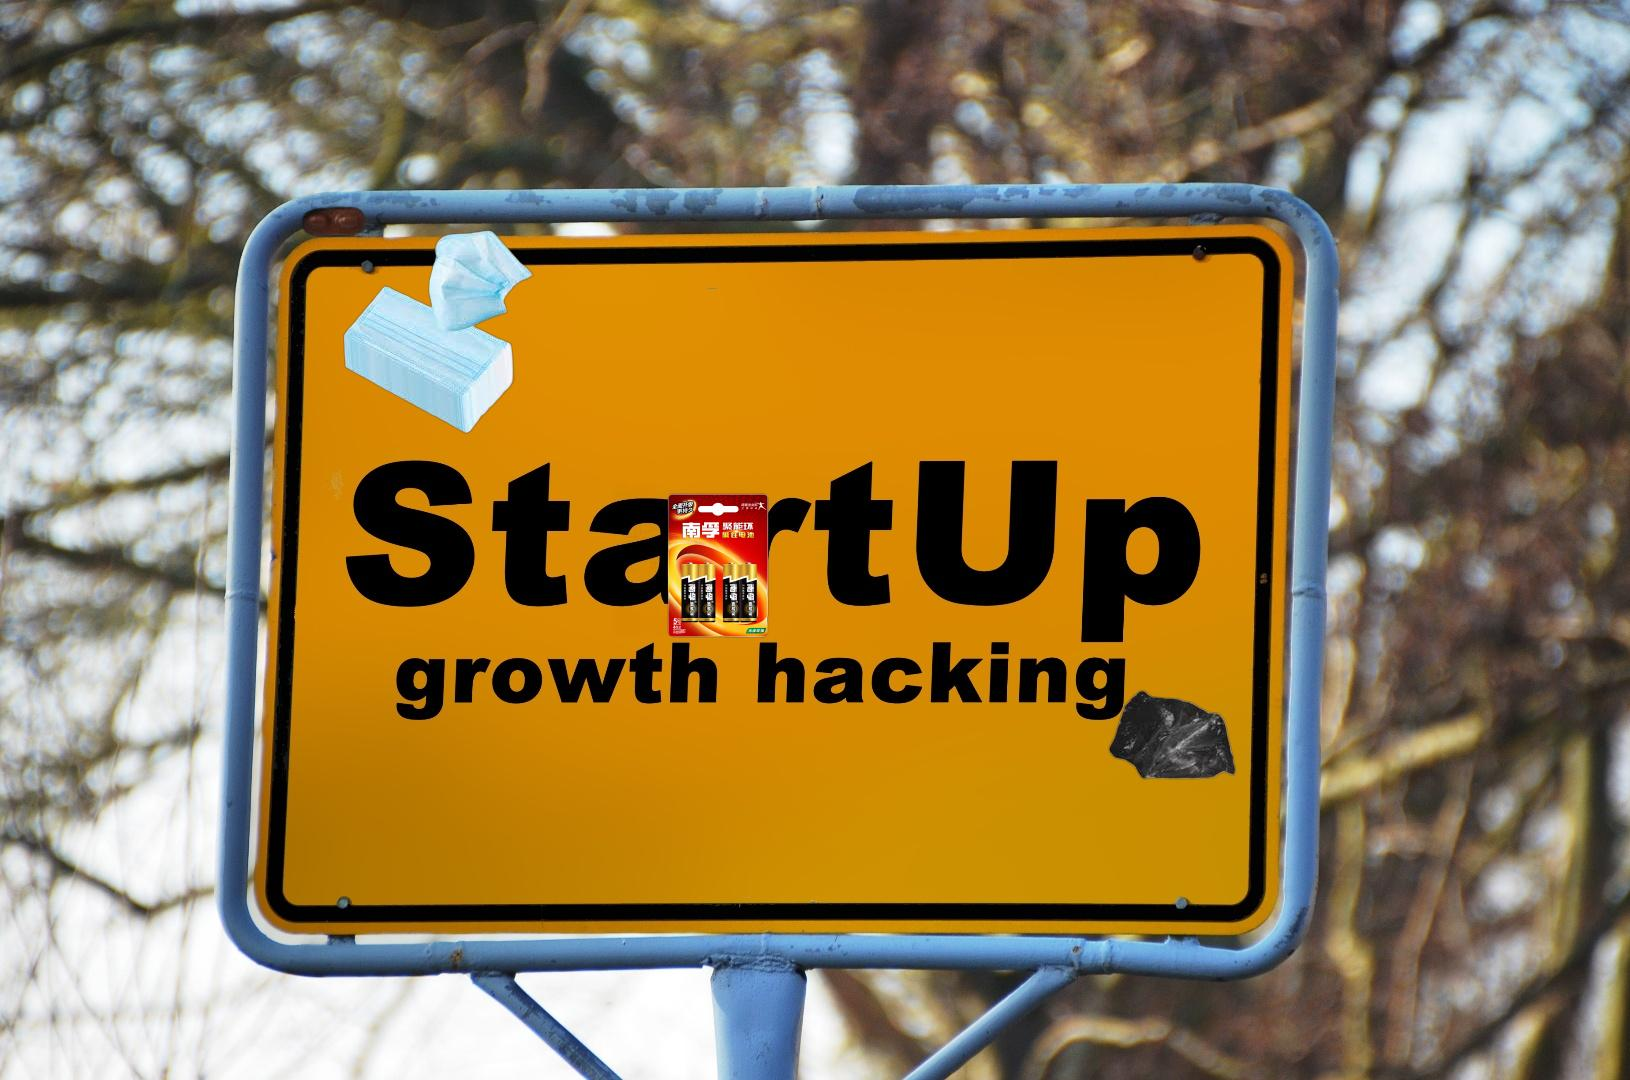battery: (613, 479, 771, 638)
plastic-bag: (1106, 687, 1237, 782)
trash: (341, 227, 536, 436), (299, 204, 369, 240)
